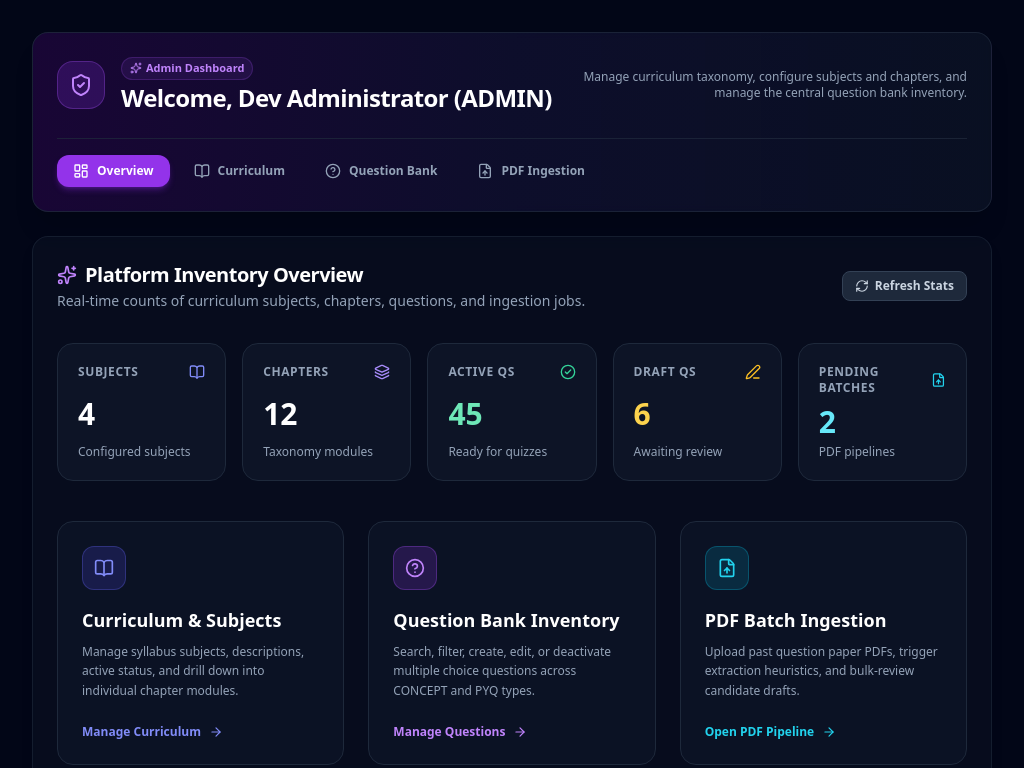
Admin Dashboard Summary & Workflow (PROMPT 24) › navigates to Question Bank when clicking Question Bank card
Click the heading "Question Bank Inventory" at (512,620), box [393,606,631,634]
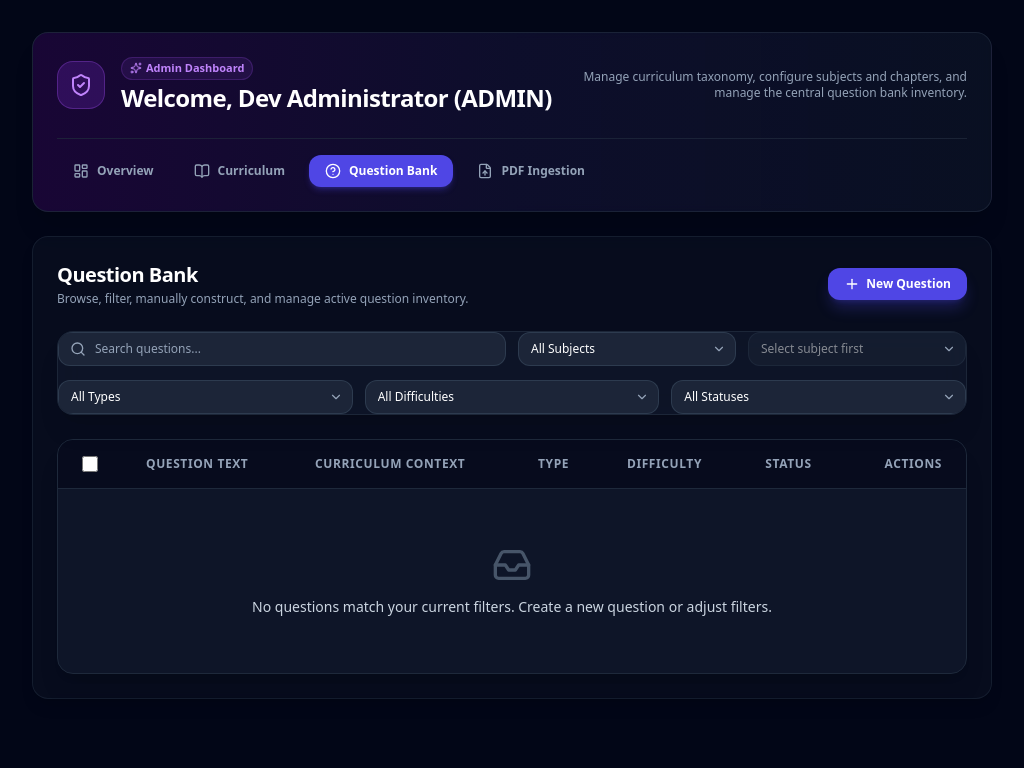
Result: the text "New Question" is shown at [866,276,951,292]
